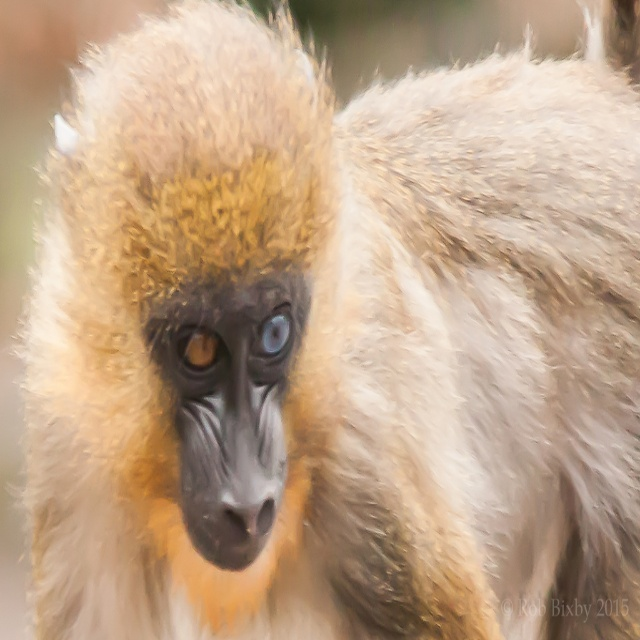Monkey: (4, 24, 640, 640)
